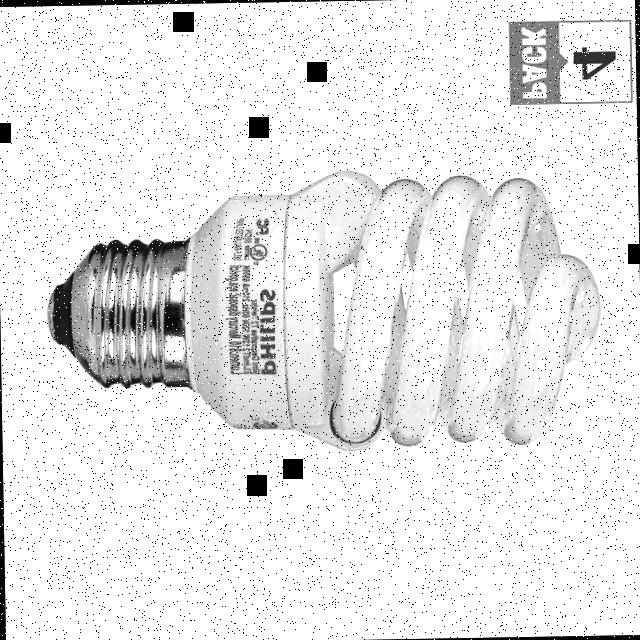light_bulb: (52, 155, 612, 461)
